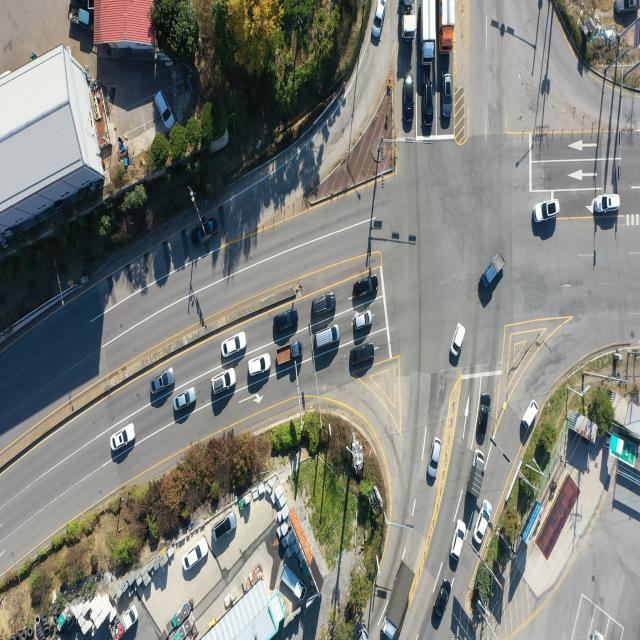car: (185, 540, 210, 573), (475, 499, 493, 544), (157, 88, 176, 130), (190, 220, 216, 248), (478, 395, 492, 444), (451, 519, 467, 561), (436, 581, 453, 620), (313, 324, 339, 349), (349, 343, 375, 368), (213, 512, 236, 540), (222, 333, 246, 359), (212, 368, 236, 394), (111, 426, 135, 452), (352, 275, 378, 299), (150, 369, 174, 394), (535, 201, 561, 224), (405, 74, 416, 128), (273, 310, 298, 333), (423, 80, 435, 126), (371, 0, 385, 39), (248, 353, 271, 376), (314, 293, 338, 315), (594, 195, 620, 215), (428, 438, 440, 480), (524, 402, 541, 431), (177, 386, 199, 408), (452, 324, 466, 358), (444, 76, 454, 119), (616, 0, 638, 14), (354, 312, 372, 329)
medium_truck: (378, 562, 416, 639), (420, 0, 440, 63), (442, 0, 458, 57), (400, 0, 416, 39)
small_truck: (111, 608, 138, 640), (280, 565, 304, 601), (471, 450, 489, 497), (482, 257, 504, 291), (276, 342, 302, 367), (68, 6, 92, 30)
